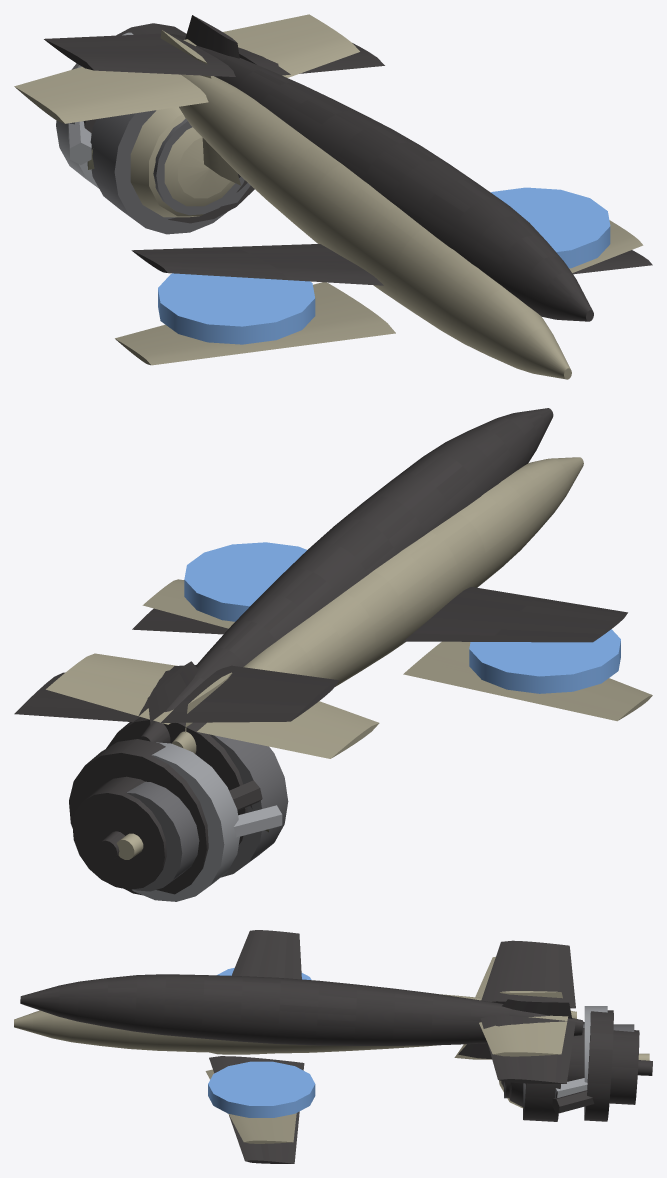
The model's file is loiterer__nagastra_1.glb.
The picture shows the model from 3 angles, top to bottom: view 1: azimuth 30°, elevation 25°; view 2: azimuth 150°, elevation 25°; view 3: azimuth 270°, elevation 25°; orthographic projection. The views are drawn at different scales.
Parts seen in each view (by area): view 1: Fuselage_Mesh, Wreck, Propeller_Mesh; view 2: Wreck, Fuselage_Mesh, Propeller_Mesh; view 3: Wreck, Fuselage_Mesh, Propeller_Mesh.
Part boxes in pixels (x1=…): Fuselage_Mesh: x1=14, y1=14, x2=643, y2=379; Wreck: x1=44, y1=15, x2=652, y2=321; Propeller_Mesh: x1=56, y1=32, x2=250, y2=234; Wreck: x1=14, y1=408, x2=627, y2=895; Fuselage_Mesh: x1=46, y1=457, x2=652, y2=758; Propeller_Mesh: x1=116, y1=734, x2=288, y2=901; Wreck: x1=20, y1=930, x2=652, y2=1163; Fuselage_Mesh: x1=14, y1=956, x2=576, y2=1143; Propeller_Mesh: x1=499, y1=1006, x2=649, y2=1115.
Size of what is drawn, in the model's own units: 1.02 by 0.4257 by 1.67.
